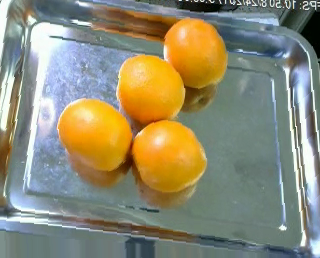Orange: (56, 98, 131, 170), (131, 119, 206, 191), (116, 53, 185, 125), (163, 16, 228, 87)
